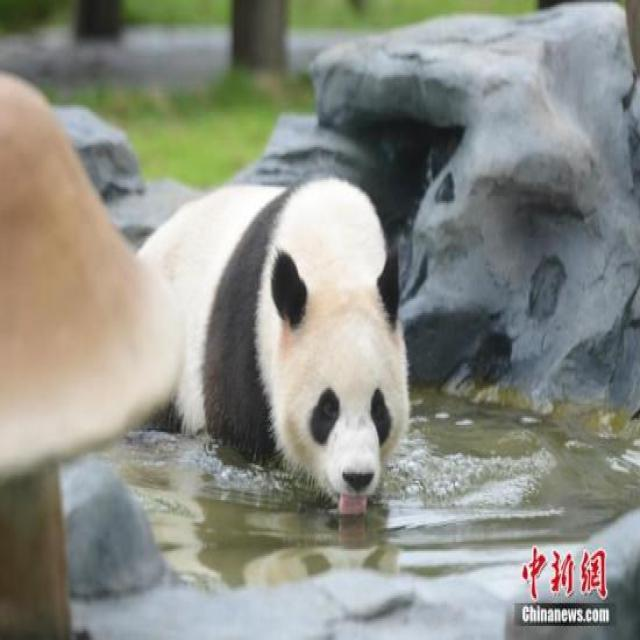panda: (115, 167, 416, 522)
